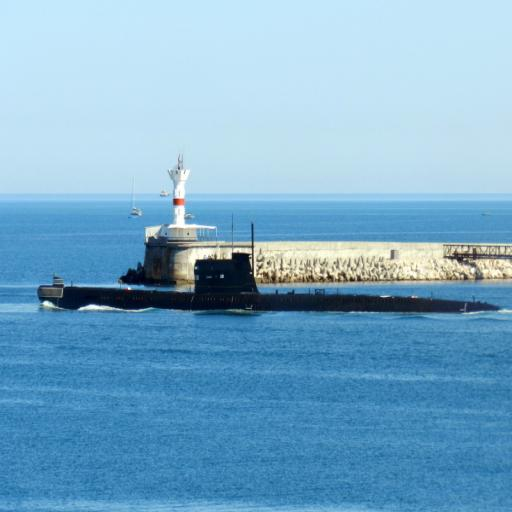submarine: (19, 253, 498, 312)
